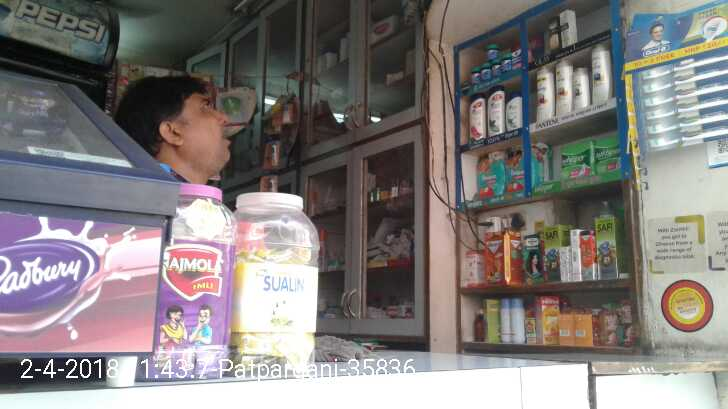oralcare: (637, 53, 728, 80), (643, 96, 727, 119), (638, 79, 728, 94), (647, 136, 728, 150), (646, 122, 728, 134)
vicks: (492, 54, 503, 78), (512, 47, 523, 70), (473, 65, 481, 85), (481, 64, 492, 78), (503, 54, 512, 71), (488, 44, 500, 52)
